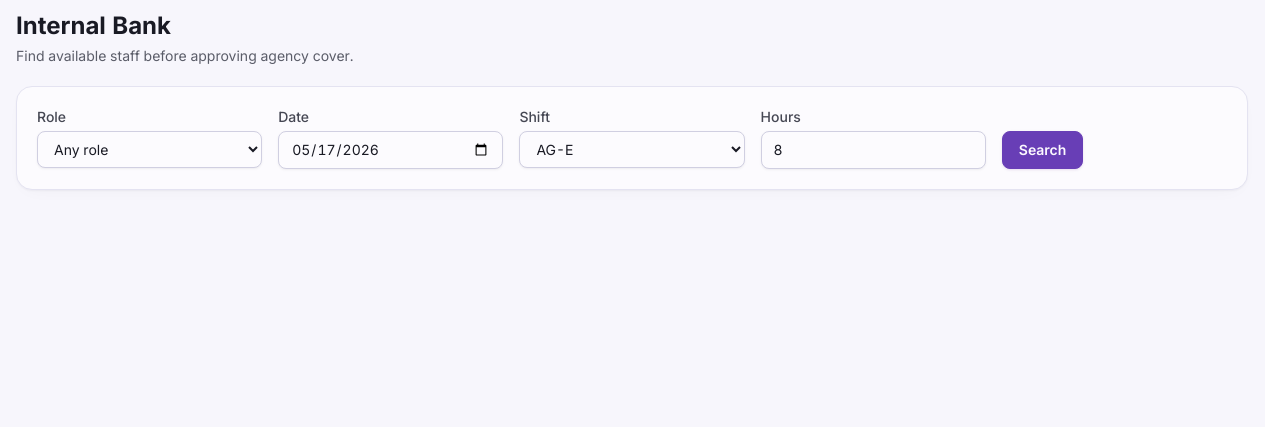
Test: InternalBank › shows the empty-state description when no candidates match
The width and height of the screenshot is (1265, 427).
Click the button "Search" at (1043, 150), box [1002,131,1083,169]
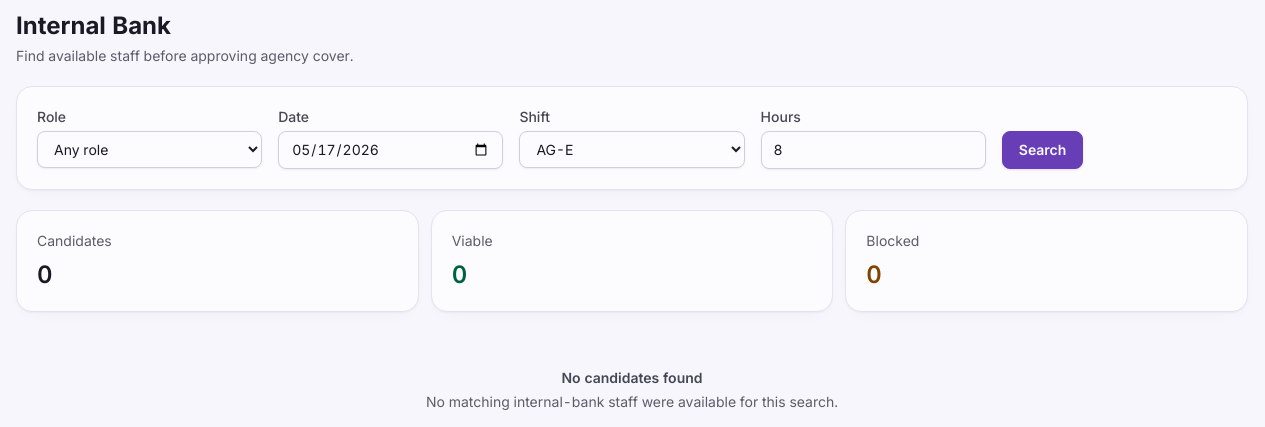
Check: the text "No matching internal-bank staff were available for this search." is shown, box [426,393,838,410]
